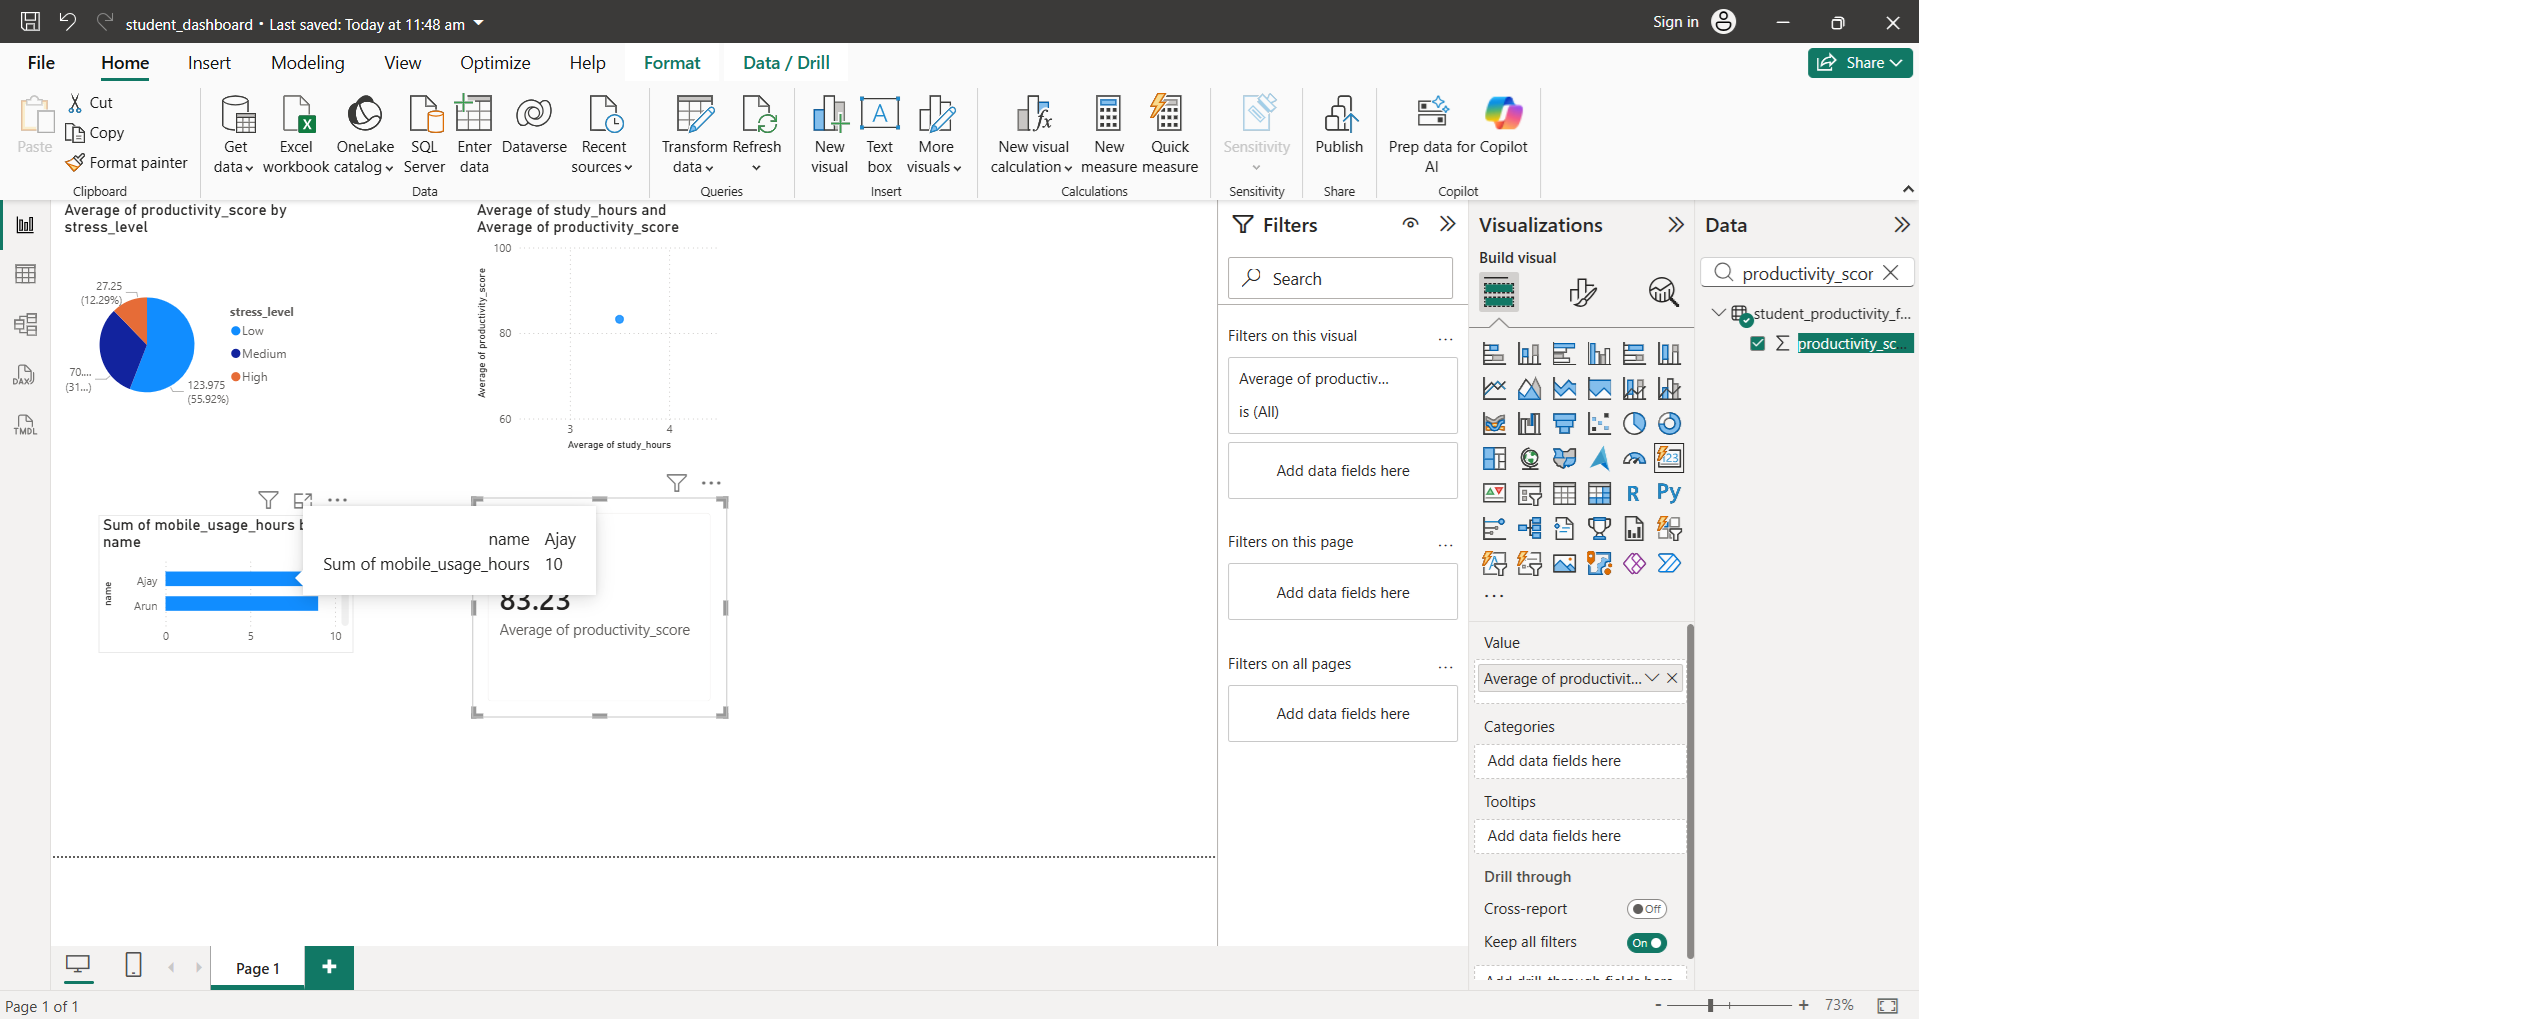

This screenshot's page, from the dashboard's own definition file:
{"tool":"powerbi","page":{"name":"Page 1","canvas":[1280,720],"ordinal":0},"visuals":[{"type":"pieChart","fields":{"Y":["Avg(student_productivity_final.productivity_score)"],"Category":["student_productivity_final.stress_level"]},"box":[10,0,280,280],"z":0},{"type":"scatterChart","fields":{"X":["Avg(student_productivity_final.study_hours)"],"Y":["Avg(student_productivity_final.productivity_score)"]},"box":[462.4,0,279.9,279.9],"z":1000},{"type":"barChart","fields":{"Y":["Sum(student_productivity_final.mobile_usage_hours)"],"Category":["student_productivity_final.name"]},"box":[52.1,345.8,279.9,150.9],"z":1001},{"type":"cardVisual","fields":{"Data":["Avg(student_productivity_final.productivity_score)"]},"box":[462.4,326.6,279.9,241.5],"z":1002}]}

Visuals, with their boxes on the page's 1280x720 design canvas (x1, y1, x2, y2). These are canvas units, not pixel positions in the 2532x1019 screenshot, which may show the page scaled, cropped or inside an application window:
pieChart - Avg(student_productivity_final.productivity_score) x student_productivity_final.stress_level: x1=10, y1=0, x2=290, y2=280
scatterChart - Avg(student_productivity_final.study_hours) x Avg(student_productivity_final.productivity_score): x1=462, y1=0, x2=742, y2=280
barChart - Sum(student_productivity_final.mobile_usage_hours) x student_productivity_final.name: x1=52, y1=346, x2=332, y2=497
cardVisual - Avg(student_productivity_final.productivity_score): x1=462, y1=327, x2=742, y2=568
